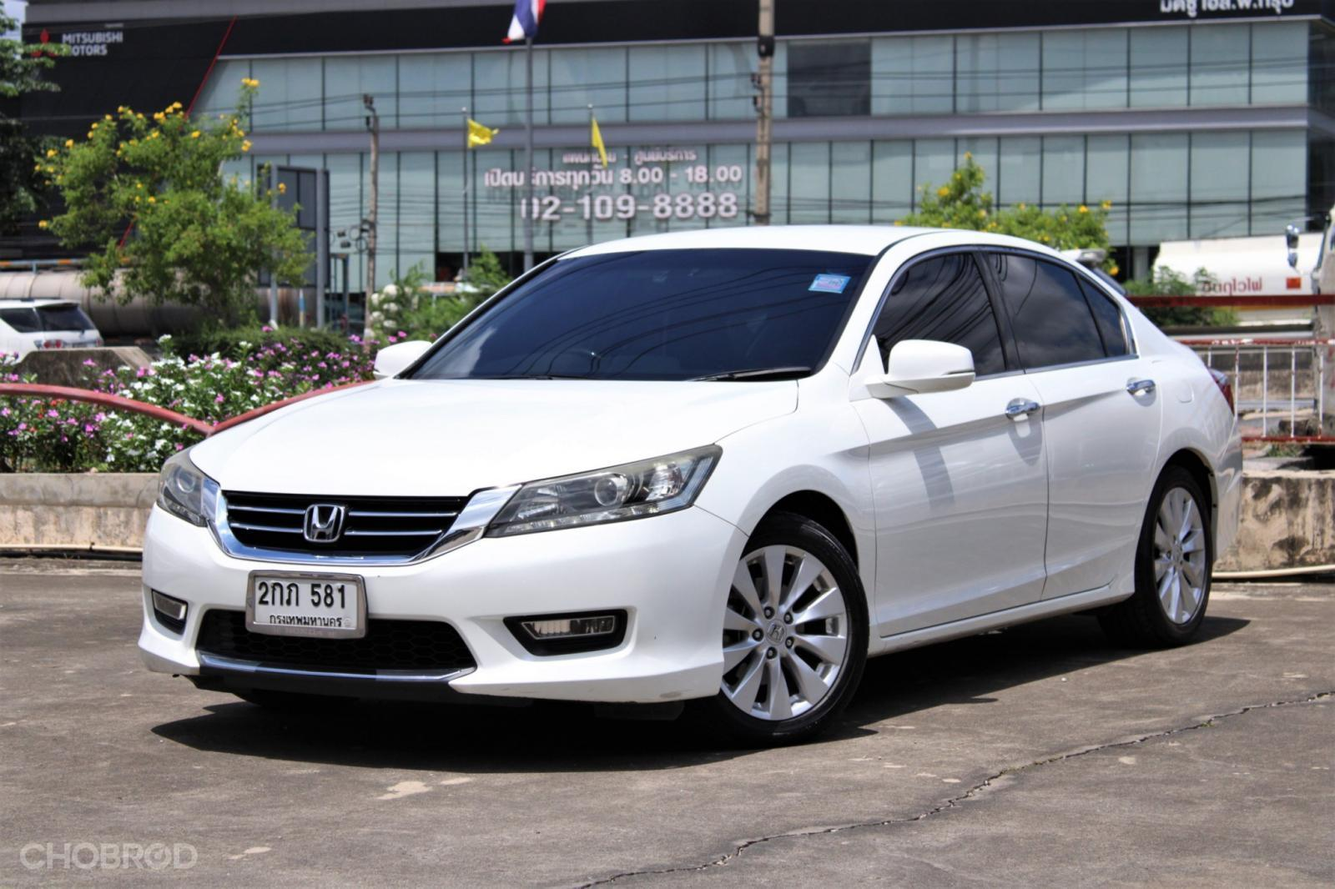license-plate: (242, 564, 374, 648)
